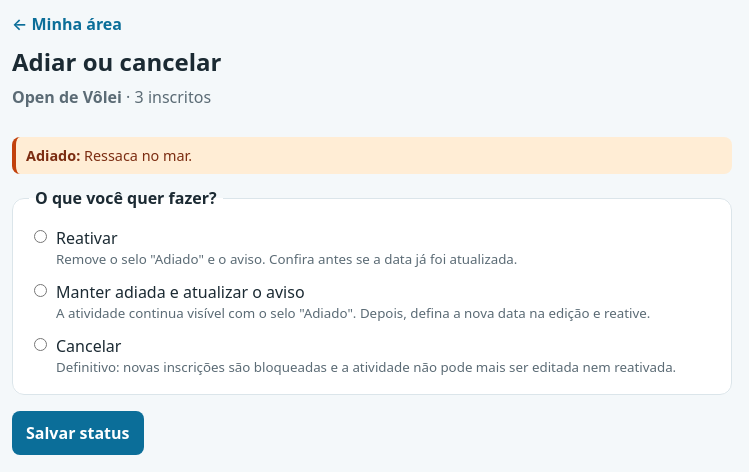
AlterarStatusPage › atividade adiada pode ser reativada, sem aviso
expect the text "Ressaca no mar." is shown: met, box [84,146,192,165]
Click the radio button labelled "Reativar". click: click(40, 237)
box: [34,230,47,243]
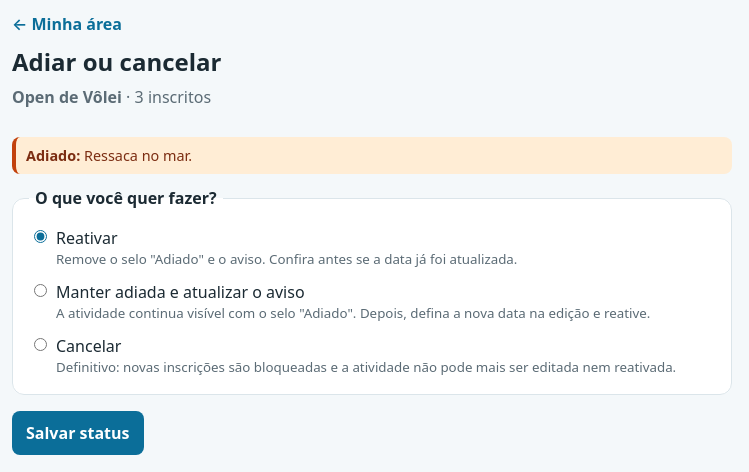
Click the button "Salvar status". click: click(78, 433)
box: [12,411,144,455]
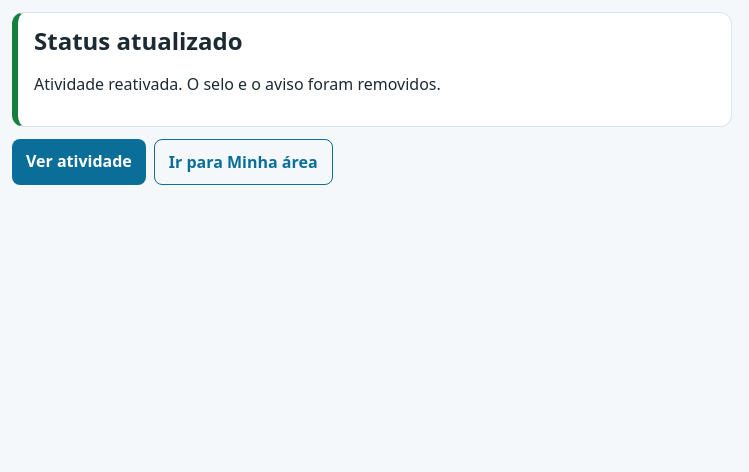
expect the text "Atividade reativada. O selo e o aviso foram removidos." is shown: met, box [34,73,441,95]
